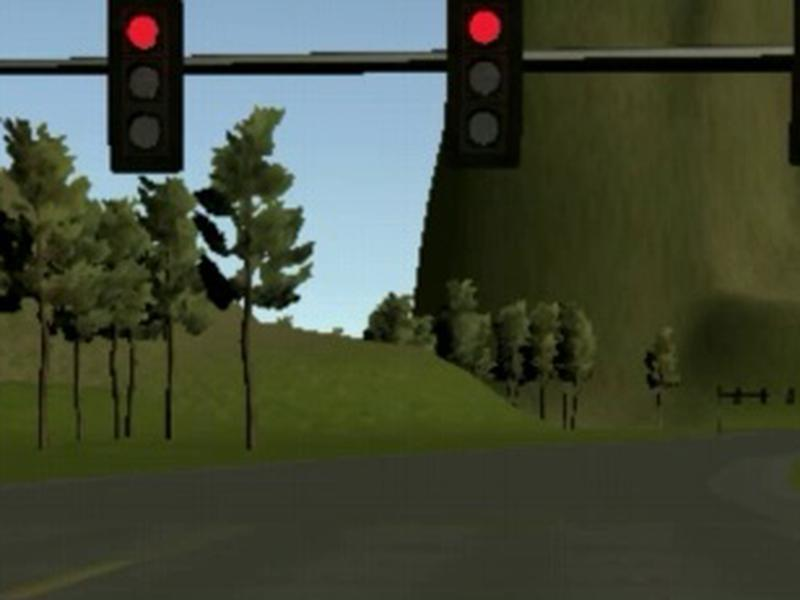Red: (108, 1, 183, 169), (447, 1, 522, 168)
